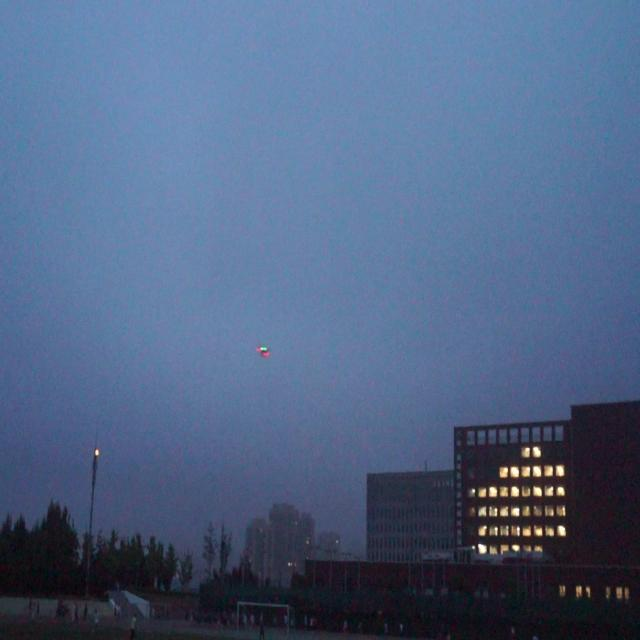drone: (256, 342, 272, 360)
